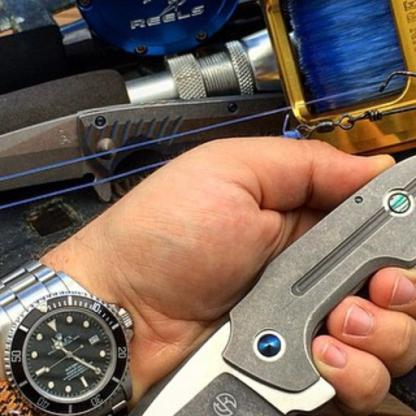knife: (31, 153, 415, 415), (0, 99, 290, 213)
